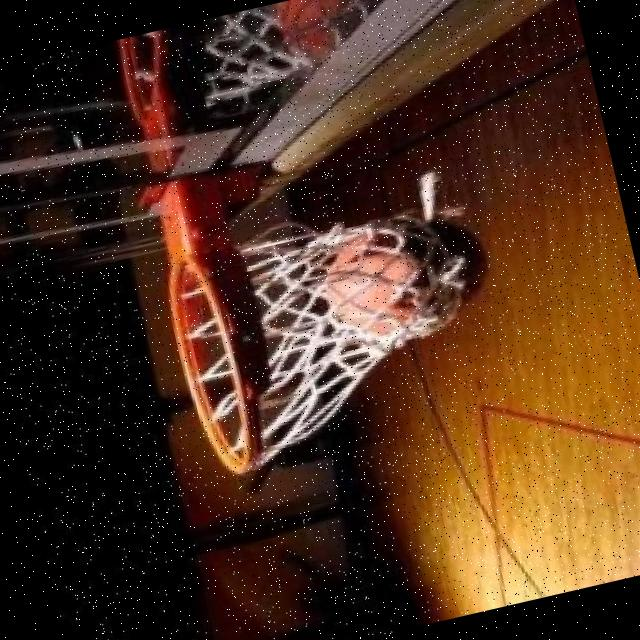ball: (309, 185, 509, 358)
hoop: (157, 236, 290, 492)
